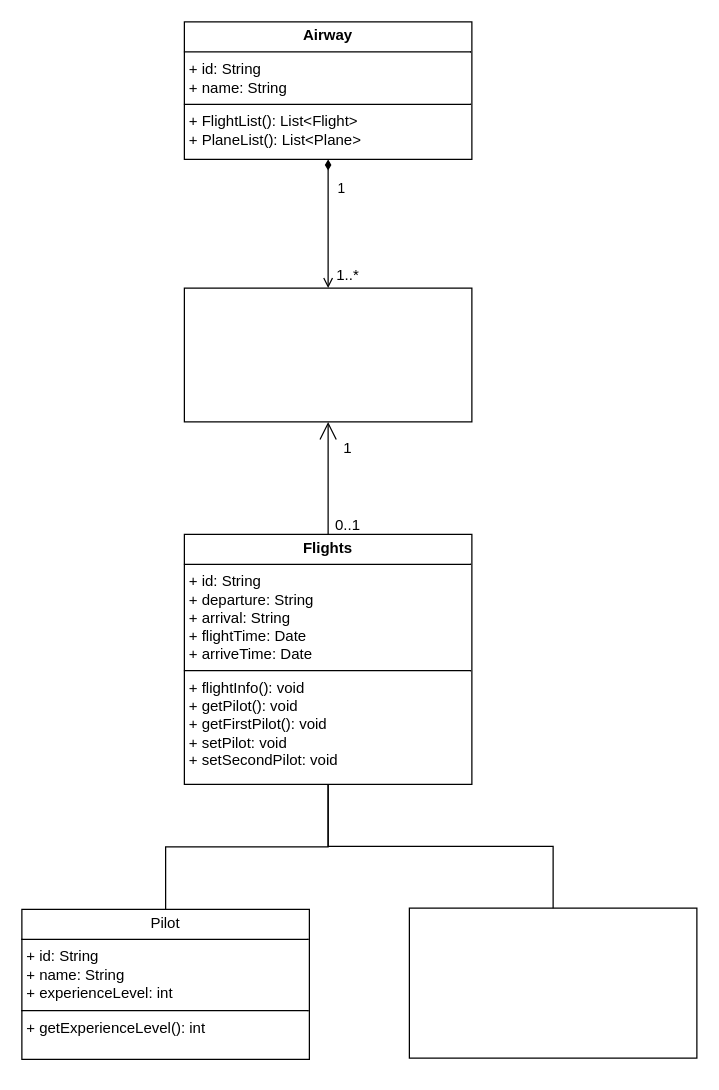
Image size: 719x1090. Some labels were removed from this diagram. The shapes that lost their labels are listed below. From the top down, each one's centre as x and y in pixels, then its label:
pixel 327 354: Plane + id: String + PlaneType: String + PlaneStatus: String + Status(): void
pixel 552 982: Airport + id: String + name: String + getId(): String + getName(): String
